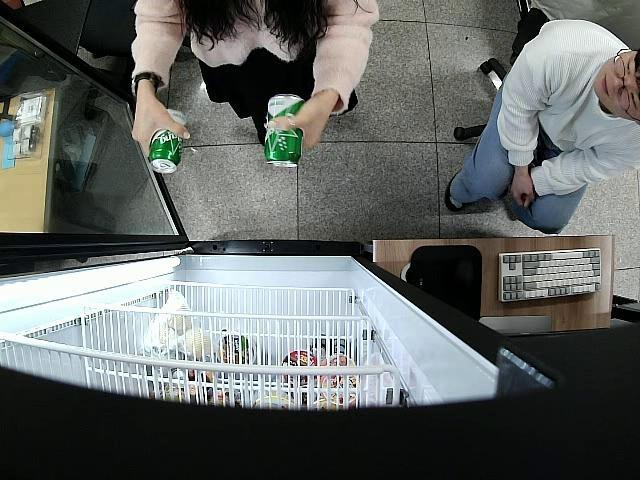12_chilsungCider: (264, 96, 306, 170), (148, 108, 188, 176)
